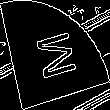M_W: (30, 26, 80, 84)
